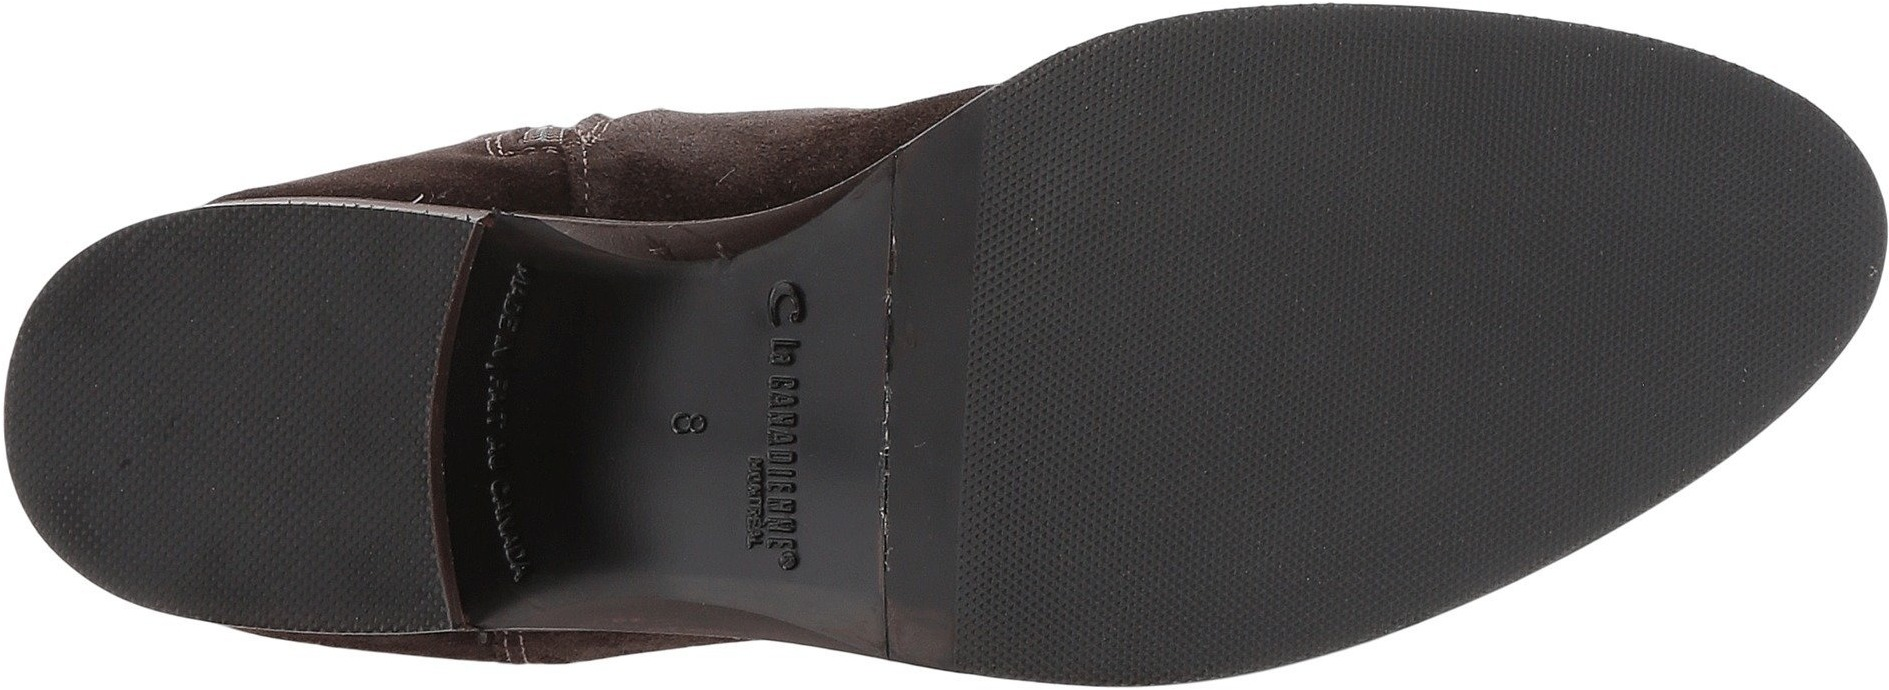other: (955, 2, 1865, 688)
